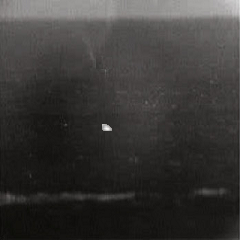Target: (100, 122, 113, 131)
